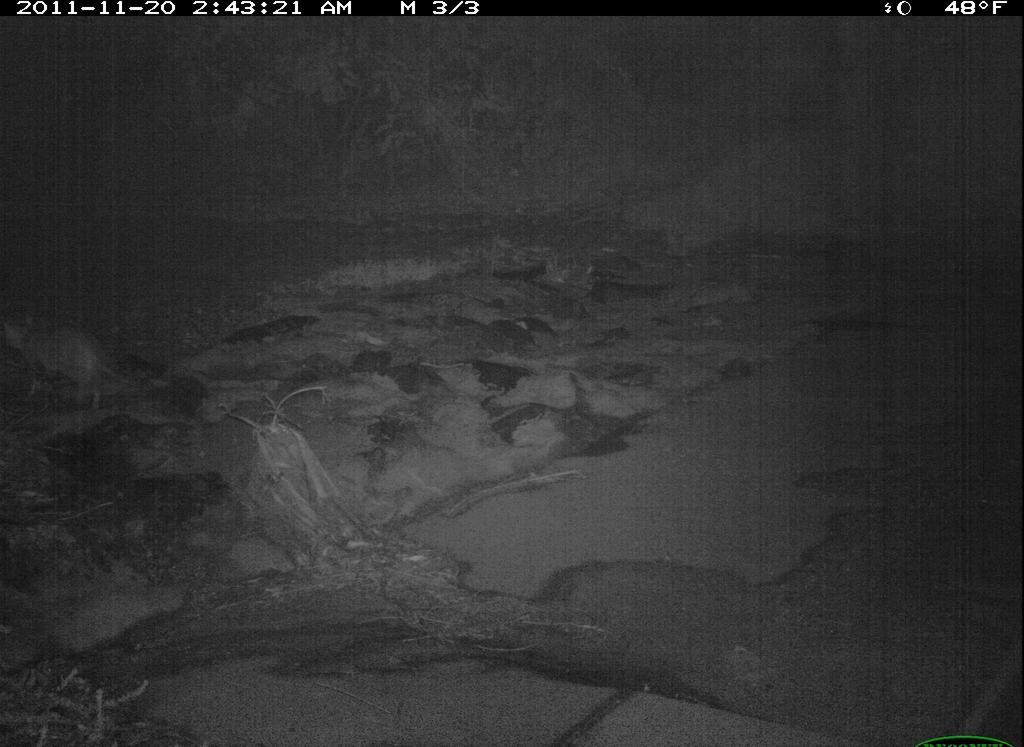cat: (2, 311, 139, 416)
